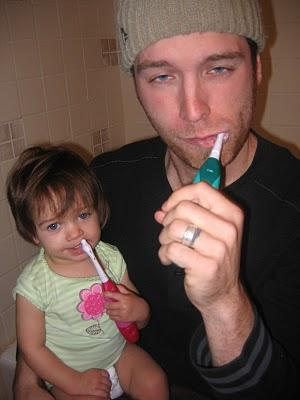person: (88, 2, 300, 400)
